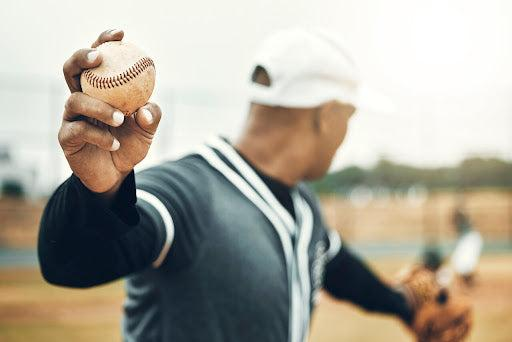baseball: (78, 41, 158, 115)
